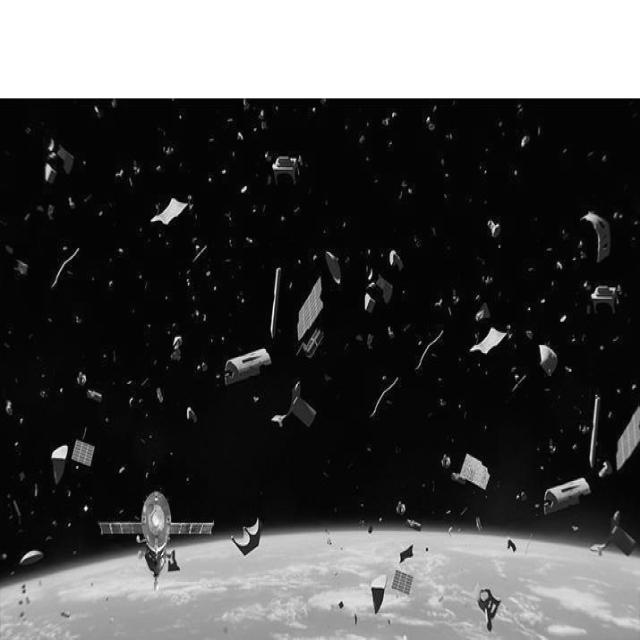large_debris: (272, 381, 317, 428), (592, 511, 636, 556), (545, 478, 593, 515), (225, 348, 271, 385), (297, 278, 324, 341), (582, 212, 612, 263), (616, 408, 640, 469), (474, 583, 502, 633), (451, 455, 490, 490), (49, 247, 79, 288), (416, 329, 445, 371), (371, 377, 399, 418), (231, 519, 262, 556), (471, 327, 508, 354), (150, 198, 188, 224), (270, 267, 282, 338), (589, 395, 600, 469), (272, 155, 298, 185), (593, 286, 619, 314), (371, 575, 388, 616), (51, 445, 67, 485), (71, 441, 94, 468), (303, 329, 324, 358), (541, 345, 559, 376), (392, 571, 414, 596), (326, 251, 342, 284), (56, 144, 73, 174), (377, 275, 394, 303), (510, 367, 527, 392), (19, 550, 43, 566), (572, 239, 587, 264), (389, 249, 405, 271), (13, 258, 30, 278), (170, 335, 183, 361), (192, 244, 208, 263), (476, 302, 491, 321), (398, 180, 413, 199), (44, 162, 56, 183), (365, 292, 376, 314), (599, 461, 612, 479), (489, 220, 502, 238), (12, 500, 21, 525), (360, 505, 369, 530), (86, 389, 102, 403), (480, 271, 496, 285), (401, 544, 413, 562), (186, 407, 197, 424), (407, 520, 422, 532), (365, 269, 375, 287), (337, 595, 347, 613), (160, 144, 174, 156), (326, 530, 335, 548), (507, 537, 517, 553), (425, 116, 435, 132), (442, 454, 452, 469), (76, 372, 86, 387), (242, 97, 252, 112), (548, 440, 558, 454), (260, 109, 266, 131), (132, 165, 142, 178), (4, 400, 12, 416), (48, 204, 56, 220), (524, 329, 535, 340), (522, 135, 532, 147), (578, 423, 590, 433), (507, 324, 514, 341), (185, 271, 192, 288), (397, 503, 406, 516), (156, 387, 163, 403), (612, 211, 623, 221), (366, 333, 373, 348), (188, 194, 195, 209), (564, 366, 574, 376), (197, 363, 207, 373), (237, 292, 246, 303), (47, 137, 54, 151), (193, 237, 200, 251), (546, 244, 554, 256), (549, 279, 557, 291), (116, 245, 124, 257), (367, 524, 374, 537), (225, 210, 232, 223), (479, 164, 486, 177), (112, 348, 119, 361), (413, 236, 420, 249), (476, 517, 482, 532), (555, 259, 563, 270), (560, 314, 568, 325), (383, 117, 391, 128), (584, 279, 590, 293), (446, 305, 453, 317), (453, 292, 460, 304), (68, 194, 74, 208), (353, 614, 359, 628), (534, 504, 540, 518), (570, 524, 579, 533), (61, 611, 71, 619), (631, 383, 639, 393), (240, 183, 248, 193), (118, 169, 126, 179), (93, 105, 101, 115), (110, 100, 120, 108), (403, 323, 411, 333), (244, 236, 254, 244), (440, 395, 446, 408), (216, 373, 222, 386), (563, 145, 570, 156), (237, 131, 244, 142), (447, 526, 454, 537), (540, 295, 546, 307), (570, 336, 576, 348), (612, 336, 620, 345), (128, 176, 134, 188), (570, 442, 578, 451), (265, 150, 271, 162), (226, 112, 234, 121), (342, 221, 351, 229), (387, 328, 394, 338), (156, 163, 163, 173), (75, 314, 82, 324), (228, 237, 234, 248), (33, 484, 38, 497), (435, 298, 443, 306), (497, 242, 503, 252), (599, 345, 605, 355), (377, 516, 383, 526), (539, 463, 545, 473), (130, 396, 135, 408), (209, 133, 214, 145), (52, 518, 58, 528), (21, 612, 27, 622), (40, 389, 45, 401), (446, 131, 452, 141), (528, 266, 535, 274), (220, 167, 227, 175), (194, 309, 202, 316), (24, 213, 31, 221), (456, 403, 464, 410), (46, 536, 53, 544), (253, 396, 260, 404), (391, 112, 399, 119), (497, 120, 505, 127), (437, 597, 445, 604), (608, 411, 613, 422), (474, 330, 479, 341), (522, 492, 528, 501), (589, 149, 595, 158), (634, 218, 640, 227), (444, 508, 450, 517), (461, 507, 467, 516), (21, 585, 27, 594), (517, 104, 523, 113), (212, 284, 217, 294), (26, 125, 31, 135), (108, 279, 113, 289), (153, 461, 158, 471), (440, 156, 445, 166), (526, 305, 532, 313), (100, 208, 104, 220), (483, 426, 489, 434), (207, 176, 213, 184), (140, 439, 146, 447), (119, 466, 125, 474), (432, 106, 438, 114), (46, 317, 52, 325), (320, 100, 328, 106), (252, 125, 258, 133), (205, 271, 210, 280), (335, 570, 340, 579), (25, 597, 30, 606), (168, 328, 173, 337), (514, 495, 520, 502), (380, 375, 387, 381), (418, 338, 424, 345), (186, 476, 193, 482), (464, 601, 470, 608), (142, 380, 148, 387), (602, 154, 606, 164), (203, 312, 207, 322), (476, 360, 481, 368), (457, 357, 462, 365), (110, 616, 115, 624), (210, 337, 215, 345), (289, 282, 294, 290), (360, 134, 364, 144), (388, 139, 393, 147), (513, 168, 517, 178), (41, 372, 46, 380), (231, 151, 236, 159), (178, 114, 183, 122), (340, 544, 344, 553), (438, 374, 442, 383), (90, 582, 96, 588), (314, 253, 318, 262), (424, 546, 430, 552), (126, 380, 132, 386), (138, 274, 144, 280), (156, 233, 162, 239), (295, 206, 300, 213), (168, 450, 173, 457), (103, 353, 108, 360), (617, 387, 621, 395), (281, 213, 285, 221), (138, 398, 142, 406), (149, 434, 153, 442), (68, 489, 72, 497), (68, 520, 72, 528), (3, 552, 7, 560), (15, 439, 19, 447), (298, 258, 302, 266), (445, 171, 449, 179), (388, 619, 392, 627), (145, 474, 150, 480), (38, 580, 43, 586), (312, 107, 317, 113), (364, 123, 370, 128), (443, 192, 448, 198), (84, 505, 88, 512), (10, 569, 14, 576), (221, 334, 225, 341), (561, 228, 565, 235), (147, 322, 151, 329), (344, 125, 348, 132), (368, 249, 372, 256), (73, 550, 78, 555), (145, 411, 148, 419), (19, 600, 23, 606), (106, 597, 109, 605), (20, 418, 24, 424), (60, 388, 64, 394), (172, 322, 176, 328), (131, 309, 137, 313), (166, 241, 170, 247), (366, 156, 369, 162), (461, 568, 465, 572), (166, 295, 168, 303)
satellite: (98, 492, 214, 589)
